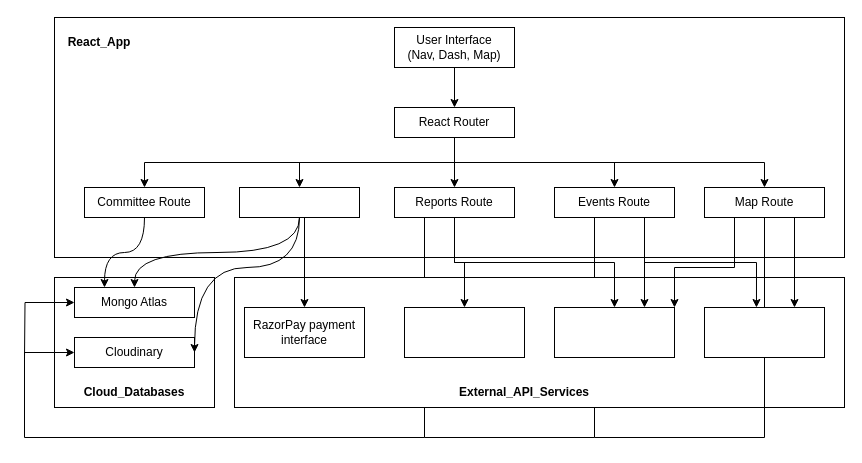
The diagram is 862 pixels wide and 463 high, and some of its shapes have lost their labels. Here are the shapes that lost their labels. From the top down, the centre of each, then its label:
At (x=299, y=202): "Shop Route".
At (x=464, y=332): "YOLOV8 Object Detection".
At (x=614, y=332): "React Leaflet".
At (x=764, y=332): "Geocoding Module".
